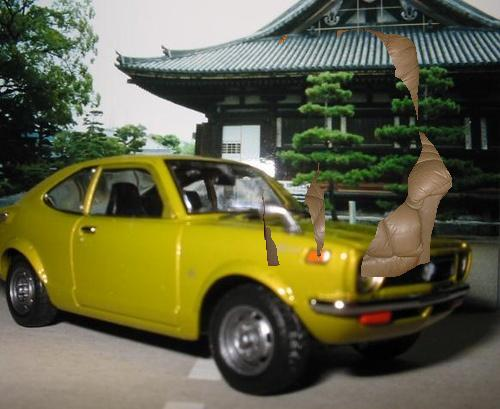tampered: (263, 30, 452, 277)
